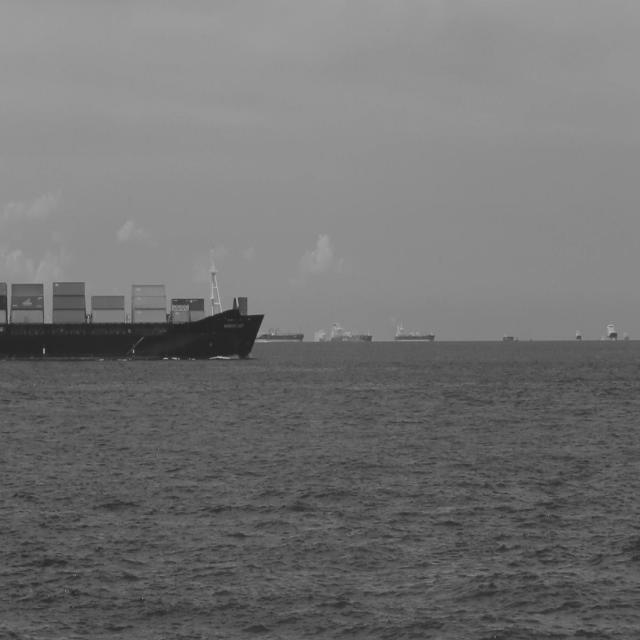ship: (0, 248, 266, 362), (394, 316, 438, 342), (331, 318, 378, 342), (260, 327, 308, 344), (248, 329, 262, 346)
